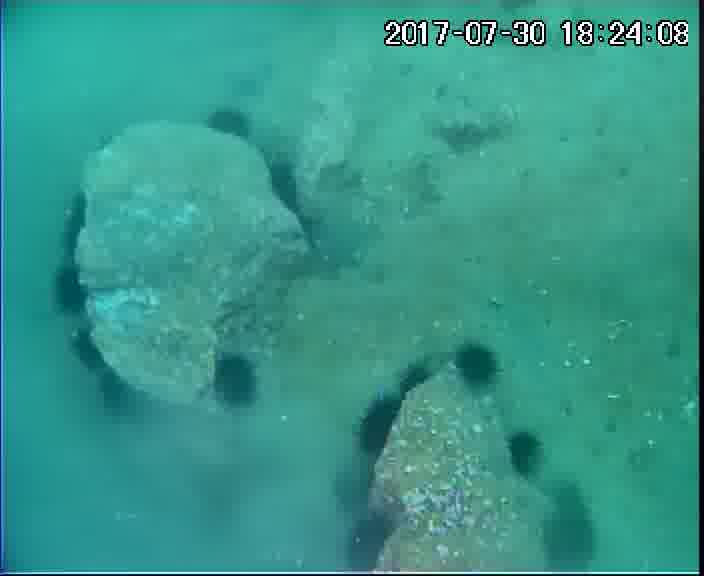echinus: (545, 503, 602, 576), (343, 510, 404, 573), (357, 395, 406, 453), (212, 355, 261, 412), (49, 261, 93, 319), (452, 342, 500, 394), (58, 189, 96, 251), (67, 325, 110, 377), (505, 430, 545, 483), (269, 159, 306, 215), (94, 367, 136, 416), (399, 363, 436, 405), (207, 109, 251, 142)
